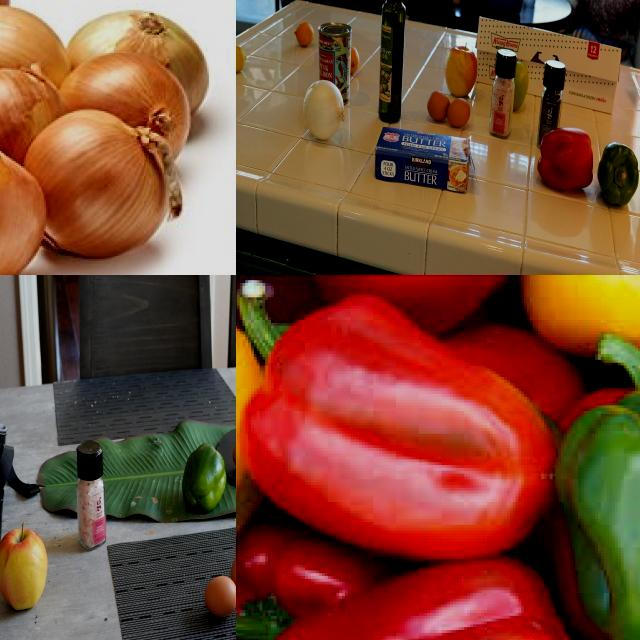bell_pepper: (237, 278, 555, 562), (551, 309, 640, 640), (256, 558, 575, 640), (237, 285, 270, 565), (540, 127, 598, 199), (180, 442, 232, 516), (599, 139, 640, 214), (537, 60, 568, 158)
egg: (204, 576, 236, 620), (449, 97, 477, 133), (428, 87, 446, 127), (232, 436, 237, 474)
onion: (27, 112, 171, 266), (68, 9, 210, 125), (63, 51, 195, 173), (1, 110, 46, 276), (1, 65, 65, 162), (294, 80, 348, 142)
